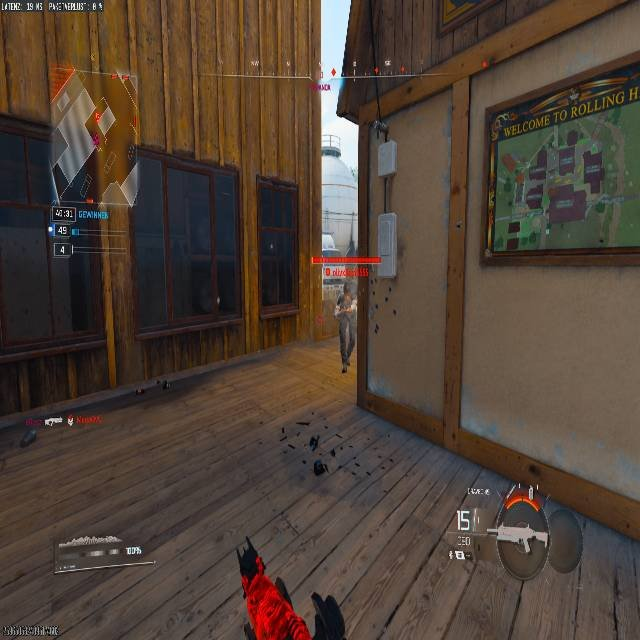head: (343, 285, 352, 296)
player: (334, 285, 356, 373)
